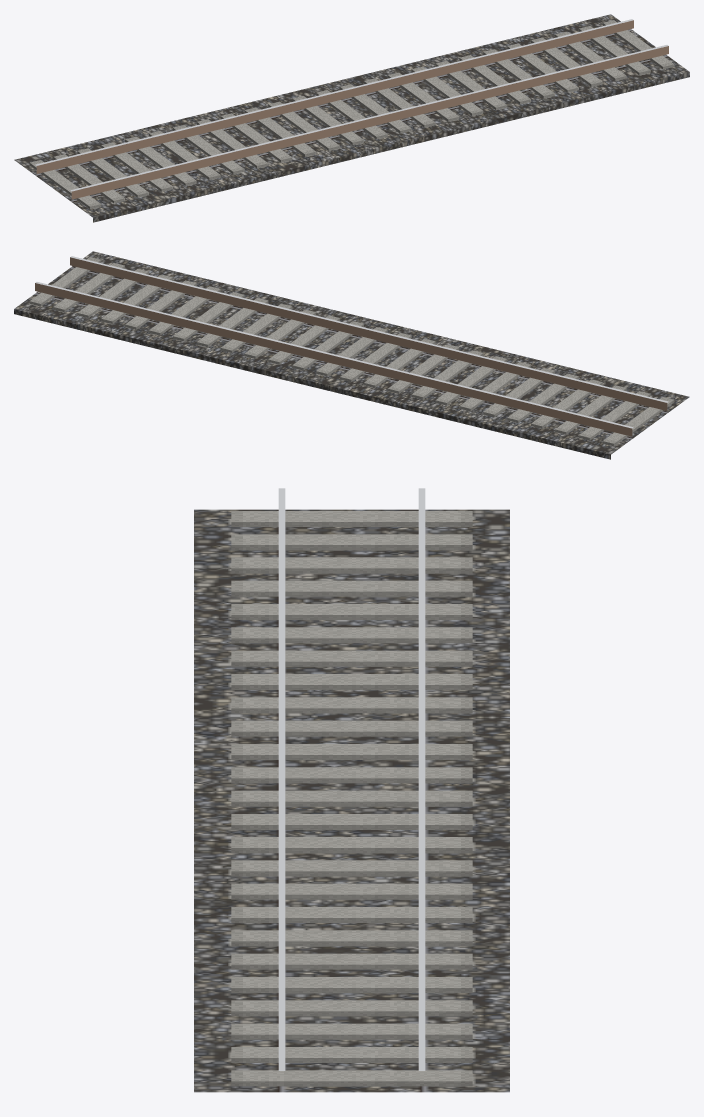
File: kolej_rovna_beton.glb
The picture shows the model from 3 angles, top to bottom: view 1: azimuth 30°, elevation 25°; view 2: azimuth 150°, elevation 25°; view 3: azimuth 270°, elevation 25°; orthographic projection. The views are drawn at different scales.
Visible parts, largest first — view 1: kolej_rovna_beton; view 2: kolej_rovna_beton; view 3: kolej_rovna_beton.
Boxes of the visible parts, x1=… form: kolej_rovna_beton: x1=14, y1=14, x2=689, y2=222; kolej_rovna_beton: x1=14, y1=251, x2=689, y2=459; kolej_rovna_beton: x1=194, y1=488, x2=509, y2=1092.
Size of the model in its own units: 14.84 by 0.373 by 3.4.
Materials: 4 (2 with a texture image).
